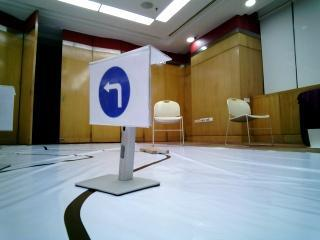left: (93, 57, 149, 121)
